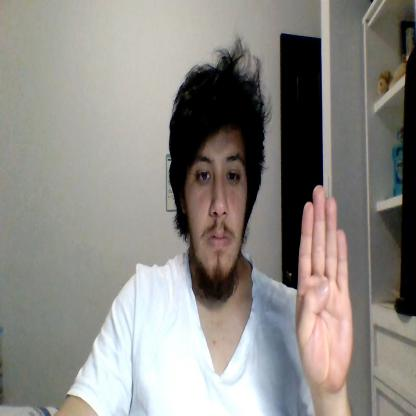B: (296, 184, 353, 391)
